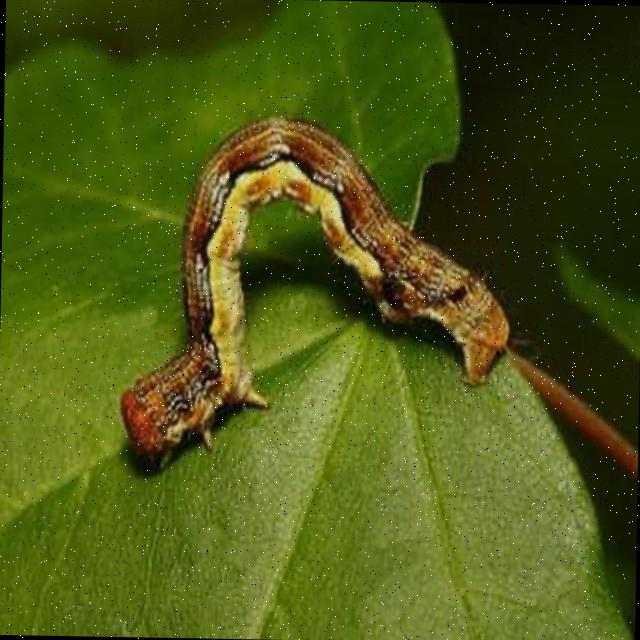worm: (120, 114, 521, 486)
